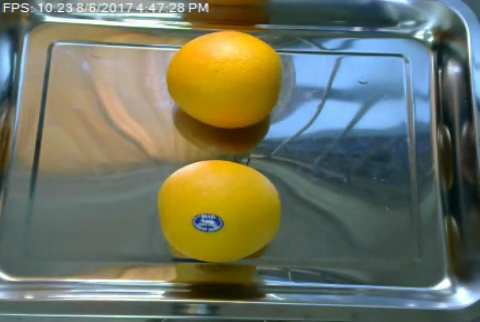Orange: (158, 160, 281, 261), (166, 29, 283, 129)
